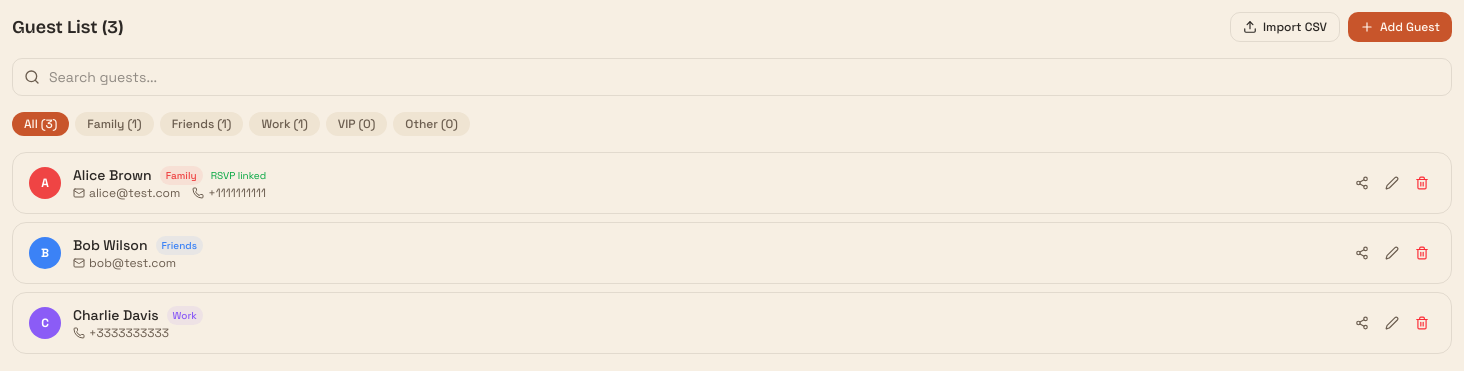
Test case: GuestListManager › filters guests by group
Expected: the element with test id "group-filters" is shown, [12,112,470,136]
Click the button with test id "group-filter-family" at [115, 124], box [75,112,154,136]
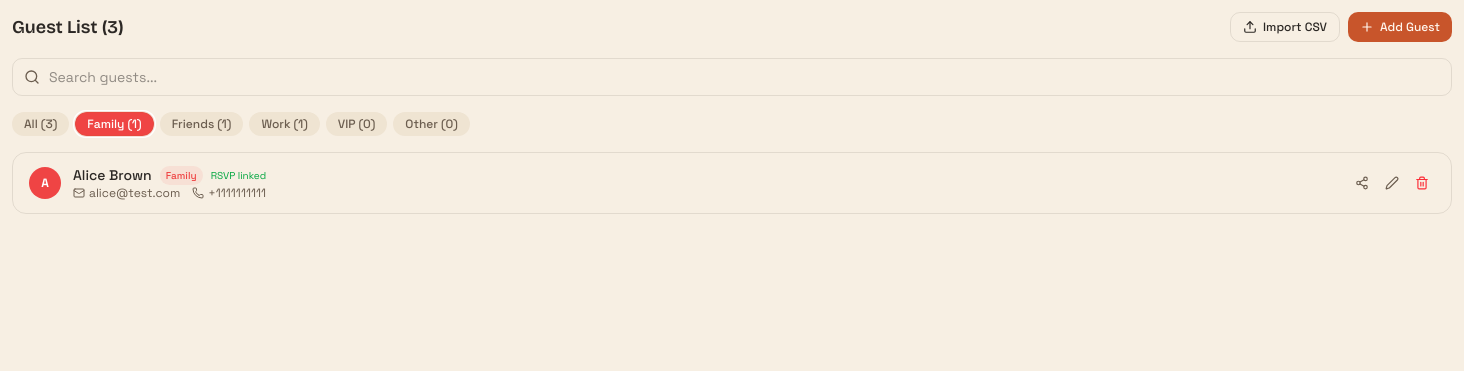
Expected: the element with test id "guest-row-guest-1" is shown, [12,152,1452,214]
Expected: the element with test id "guest-row-guest-2" is gone
